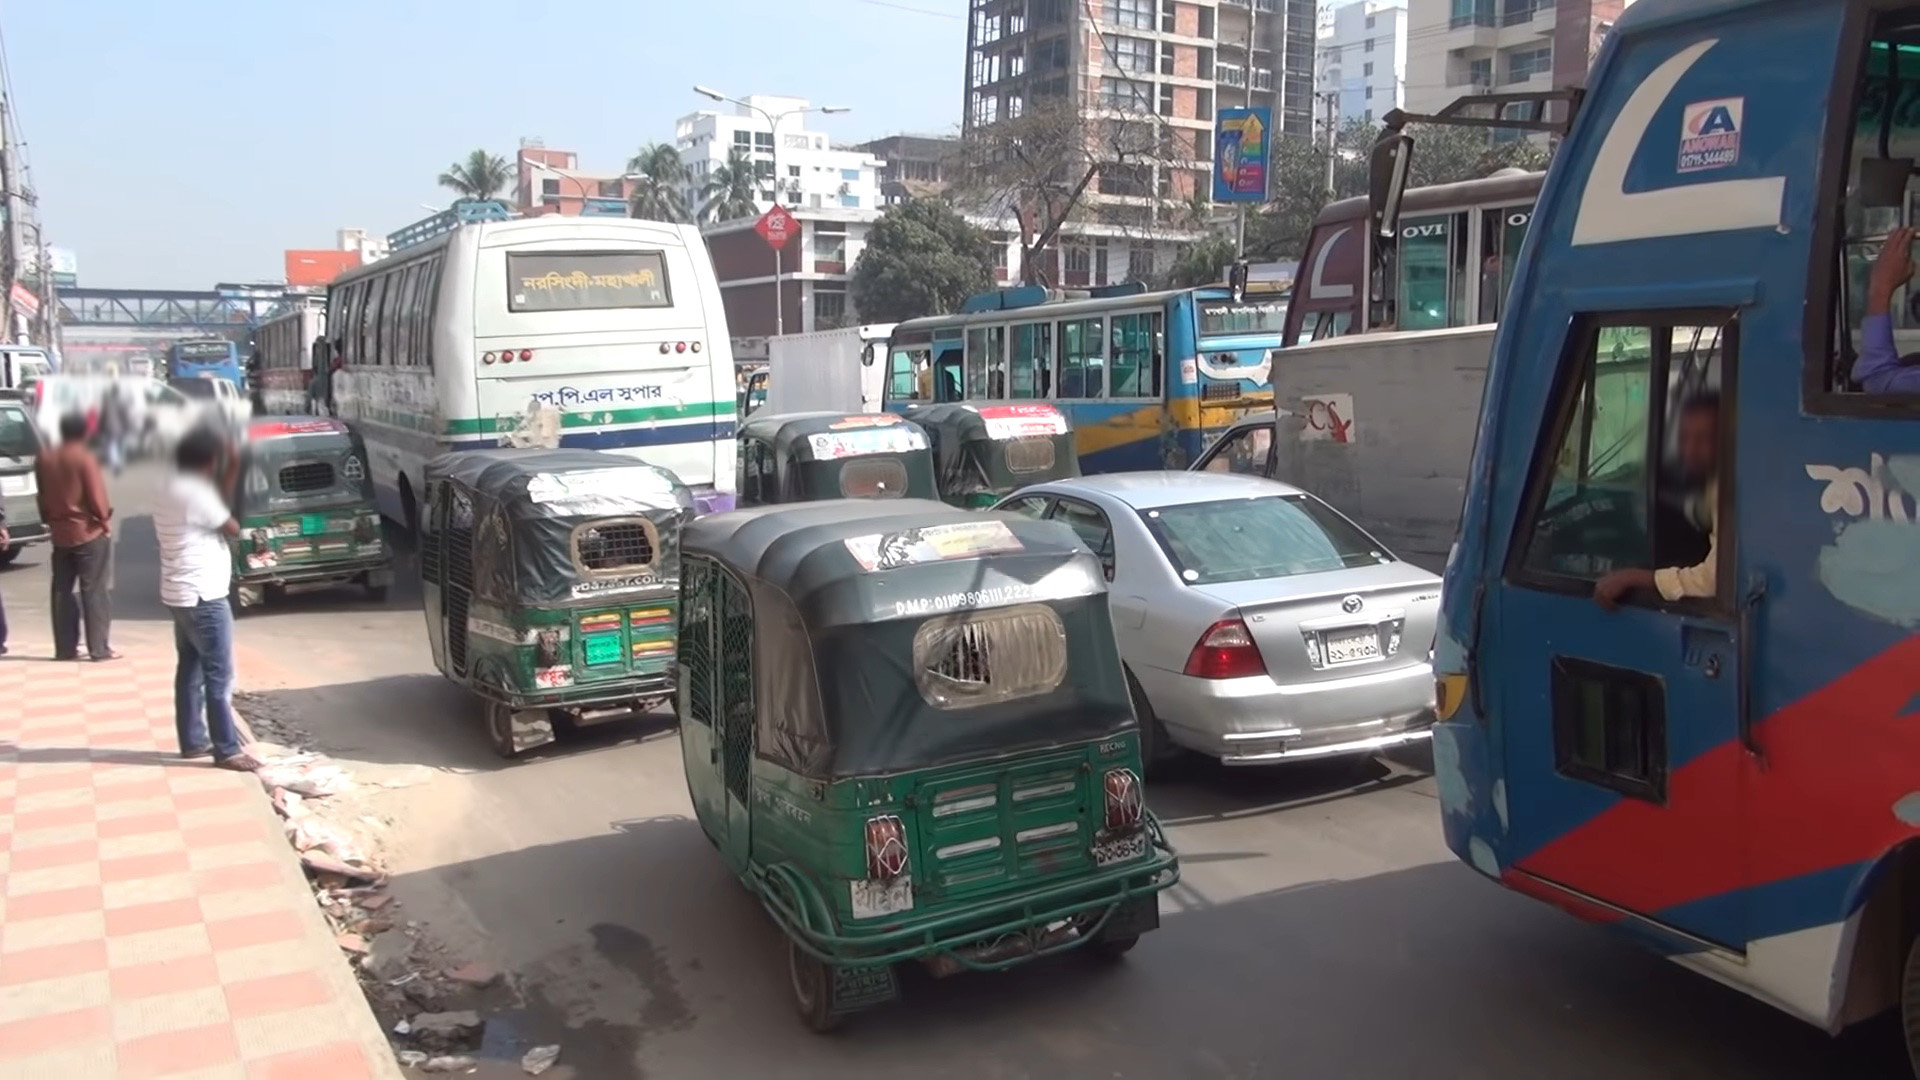bus: (1375, 5, 1920, 1073), (328, 196, 745, 549), (851, 282, 1276, 473), (1284, 170, 1545, 328), (236, 289, 324, 411), (171, 334, 237, 384)
car: (980, 473, 1428, 774), (1176, 320, 1497, 555), (1, 396, 53, 541)
cng: (670, 509, 1188, 1034), (422, 451, 698, 752), (220, 415, 390, 607), (735, 409, 947, 501), (922, 400, 1083, 493)
truck: (746, 326, 880, 405)
